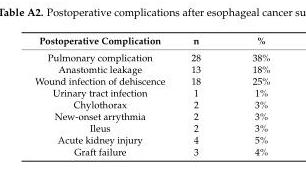table: (34, 34, 269, 157)
table column: (34, 34, 177, 157), (177, 34, 225, 157), (225, 34, 269, 157)
table column header: (34, 34, 269, 48)
table row: (34, 34, 269, 48), (34, 48, 269, 62), (34, 62, 269, 74), (34, 74, 269, 86), (34, 86, 269, 98), (34, 98, 269, 110), (34, 121, 269, 133), (34, 133, 269, 145), (34, 145, 269, 157), (34, 110, 269, 121)
